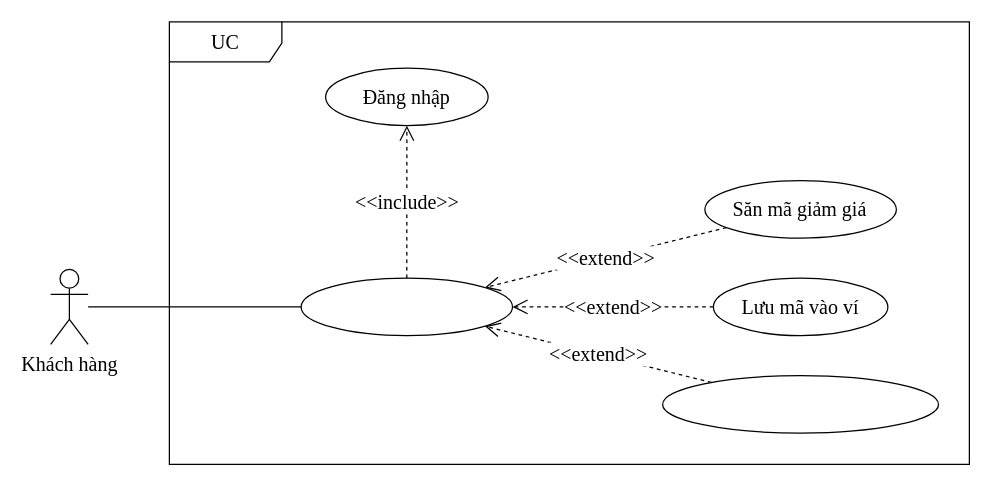
This 991x486 diagram has some shape labels left out. The box of each missing label's shape, as (x1, y1, x2, y2) in pixels:
Quản lý ví voucher: (300, 277, 512, 336)
Áp dụng mã khi thanh toán: (661, 374, 938, 433)
